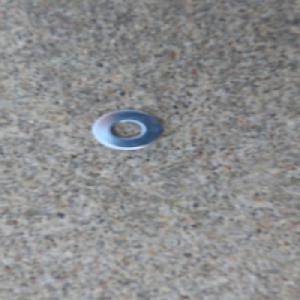Washer: (87, 106, 168, 153)
